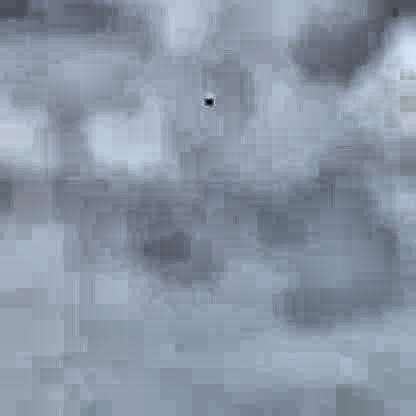golfball: (203, 91, 210, 102)
